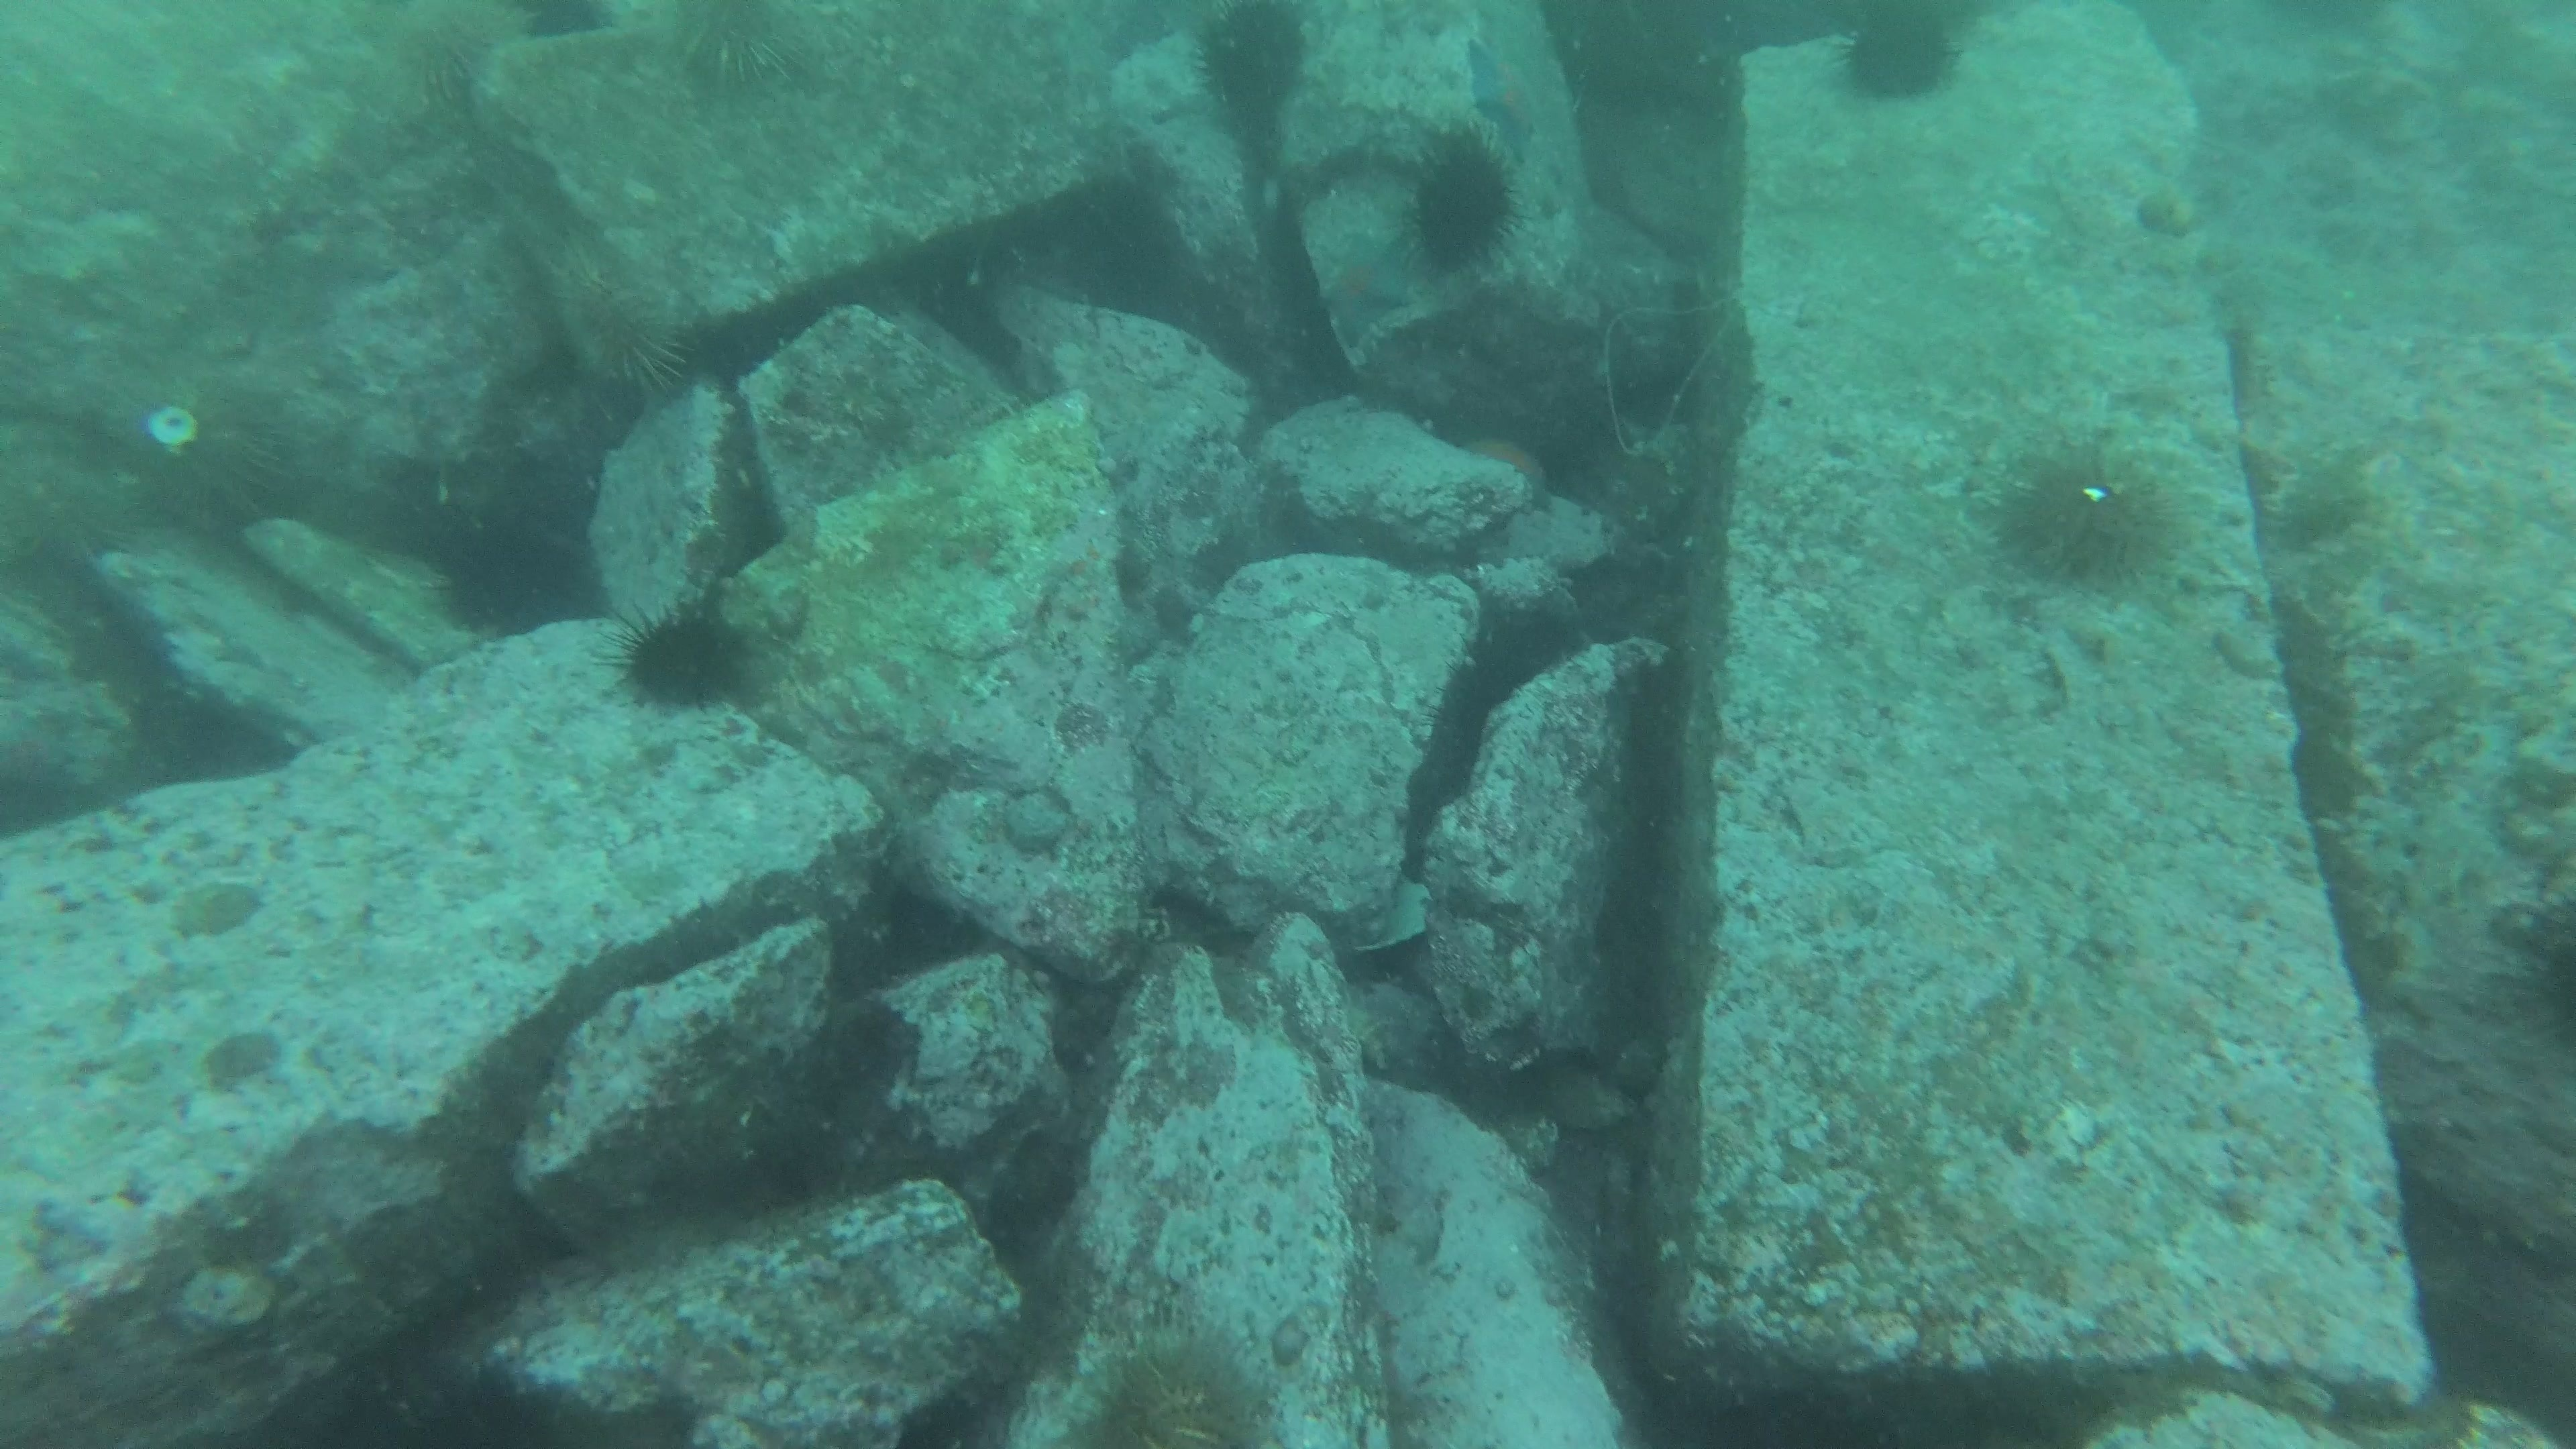echinus: (1987, 435, 2190, 594), (117, 377, 297, 541), (538, 237, 694, 405), (1074, 1330, 1284, 1445), (426, 506, 602, 640), (1396, 129, 1525, 280), (609, 598, 761, 718), (648, 2, 826, 99), (1187, 4, 1320, 131), (1828, 5, 1971, 110), (382, 0, 502, 106)
starfish: (1307, 218, 1421, 357), (1460, 12, 1548, 161), (1453, 426, 1560, 499)
